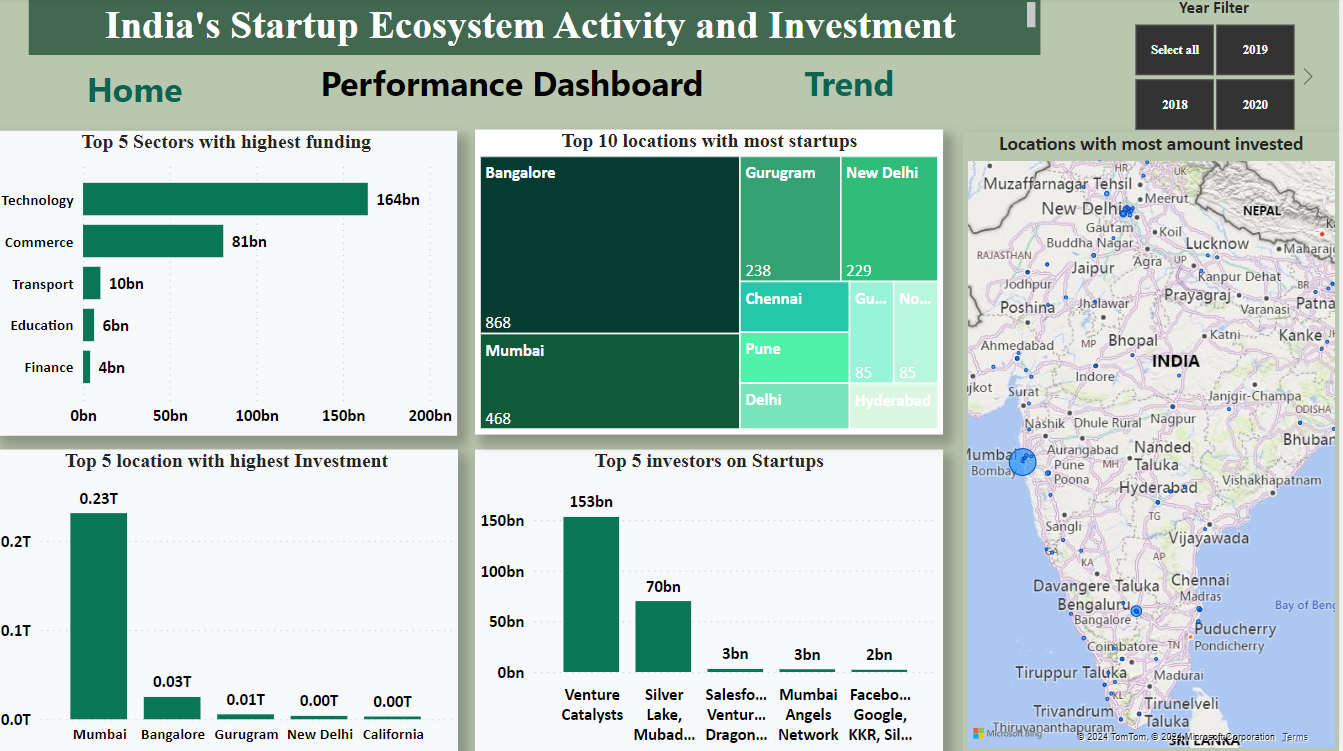

The page's visual inventory and layout, read from the dashboard file:
{"tool":"powerbi","page":{"name":"Page 1","canvas":[1280,720],"ordinal":0},"visuals":[{"type":"pythonVisual","fields":{"Values":["data.sector","data.amount($)"]},"box":[9.6,97.4,400.7,362.3],"z":0},{"type":"pythonVisual","fields":{"Values":["data.headquarter","data.amount($)"]},"box":[450.1,400.7,419.9,319.7],"z":1},{"type":"pythonVisual","fields":{"Values":["data.headquarter"]},"box":[450.1,133.1,440.5,267.6],"z":2},{"type":"pythonVisual","fields":{"Values":["data.sector","data.amount($)"]},"box":[879.6,112.5,400.7,317],"z":4},{"type":"pythonVisual","fields":{"Values":["data.sector","data.amount($)"]},"box":[890.6,417.2,389.7,303.3],"z":5},{"type":"pythonVisual","fields":{"Values":["data.investor","data.amount($)"]},"box":[1327.5,112.5,608.8,608.8],"z":6},{"type":"card","box":[9.6,0,209.9,133.1],"z":7},{"type":"card","title":"Total Volume of Investment","fields":{"Values":["data.Sum of Amount"]},"box":[219.6,0,209.9,133.1],"z":8},{"type":"card","title":"Total Investment for Established Companies","fields":{"Values":["data.Established Amount"]},"box":[459.7,0,204.5,133.1],"z":9},{"type":"card","title":"Total Investment for Early Stage Companies","fields":{"Values":["data.Early Stage Amount"]},"box":[671,0,219.6,122.1],"z":10},{"type":"pythonVisual","fields":{"Values":["Sum(data.amount($))","data.investor"]},"box":[5.5,400.7,429.5,319.7],"z":11},{"type":"slicer","fields":{"Values":["data.year"]},"box":[1079.9,0,200.3,133.1],"z":12}]}

Visuals, with their boxes in screenshot pixels (x1, y1, x2, y2), scaled from the page's 1280x720 canvas onto the 1343x751 screenshot:
pythonVisual - data.sector x data.amount($): crop(10, 102, 430, 479)
pythonVisual - data.headquarter x data.amount($): crop(472, 418, 913, 750)
pythonVisual - data.headquarter: crop(472, 139, 934, 418)
pythonVisual - data.sector x data.amount($): crop(923, 117, 1342, 448)
pythonVisual - data.sector x data.amount($): crop(934, 435, 1342, 750)
card: crop(10, 0, 230, 139)
"Total Volume of Investment" card: crop(230, 0, 451, 139)
"Total Investment for Established Companies" card: crop(482, 0, 697, 139)
"Total Investment for Early Stage Companies" card: crop(704, 0, 934, 127)
pythonVisual - Sum(data.amount($)) x data.investor: crop(6, 418, 456, 750)
slicer - data.year: crop(1133, 0, 1342, 139)
